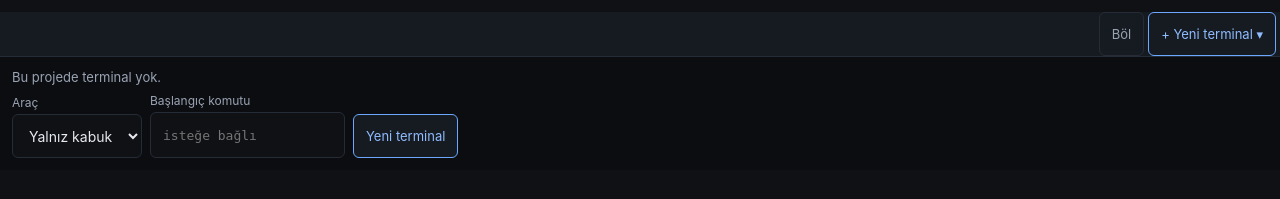
Test: TerminalsPanel › an empty panel shows the engine's error next to its launcher
This screenshot has width=1280, height=199.
Click the button "Yeni terminal". click: click(406, 136)
box: [353,114,458,158]
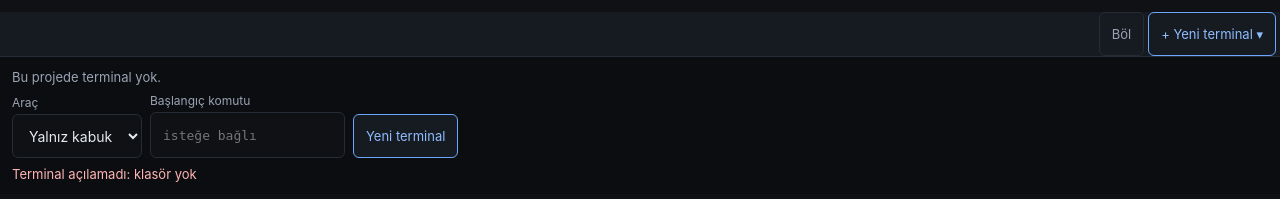
Now the message reads "Terminal açılamadı: klasör yok", box [12,166,197,182]
